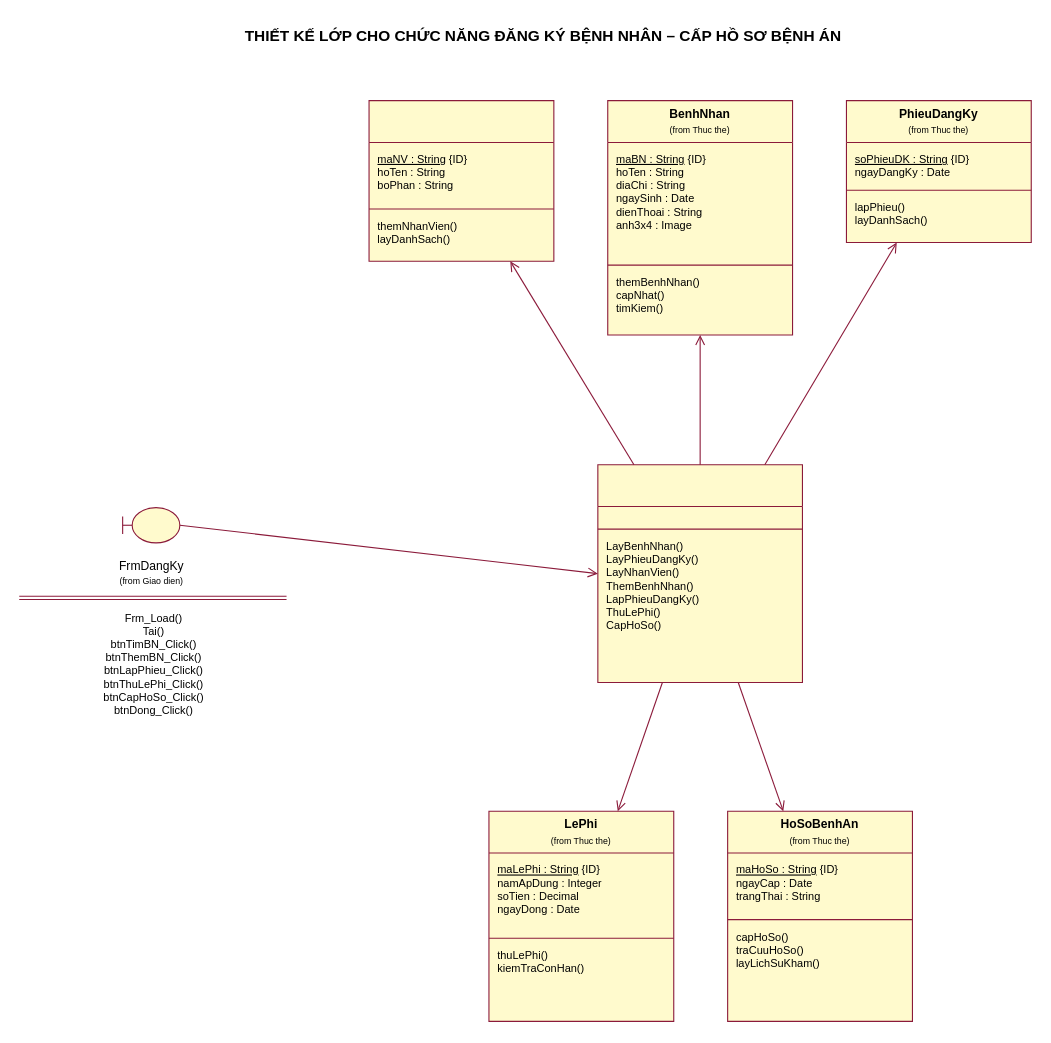
This 1051x1043 diagram has some shape labels left out. The shapes that lost their labels are listed below. From the top down, each one's box as (x1, y1, x2, y2) in pixels, then its label:
(368, 100, 554, 261): NhanVien (from Thuc the)
(597, 464, 802, 683): DangKyService (from Dieu khien)
